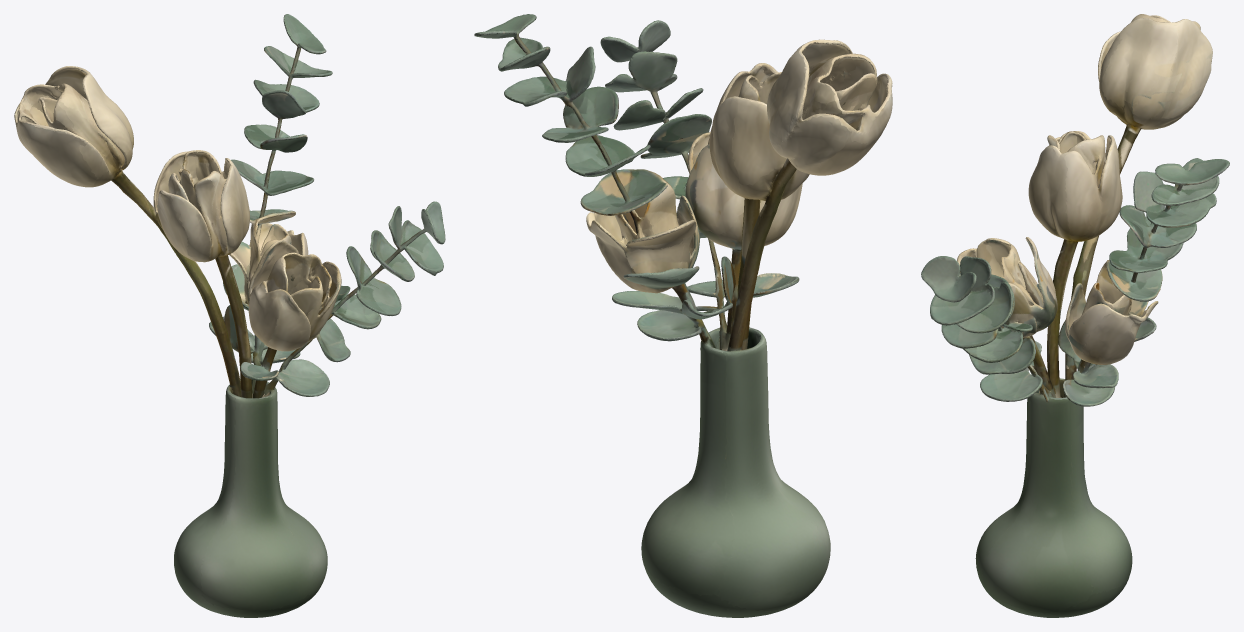
The model's file is daylight-vase.glb.
The picture shows the model from 3 angles, left to right: view 1: azimuth 30°, elevation 25°; view 2: azimuth 150°, elevation 25°; view 3: azimuth 270°, elevation 25°; orthographic projection. The views are drawn at different scales.
Visible parts, largest first — view 1: daylight-vase; view 2: daylight-vase; view 3: daylight-vase.
Part boxes in pixels (x1,y1,x2,y2): daylight-vase: (14,14,445,617); daylight-vase: (474,14,892,617); daylight-vase: (921,14,1229,617).
Bounding box in the file's own units: 0.164 × 0.25 × 0.1335.
1 material, 1 textured.
